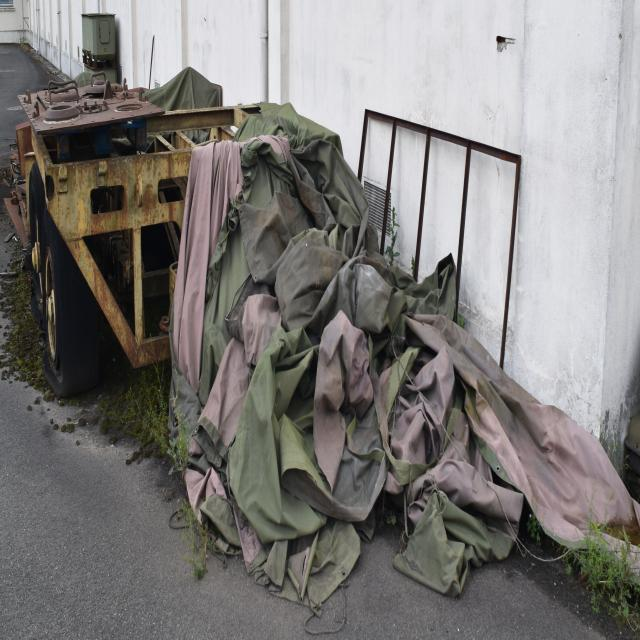entulho: (193, 144, 476, 594), (313, 271, 640, 602), (194, 116, 398, 607)
